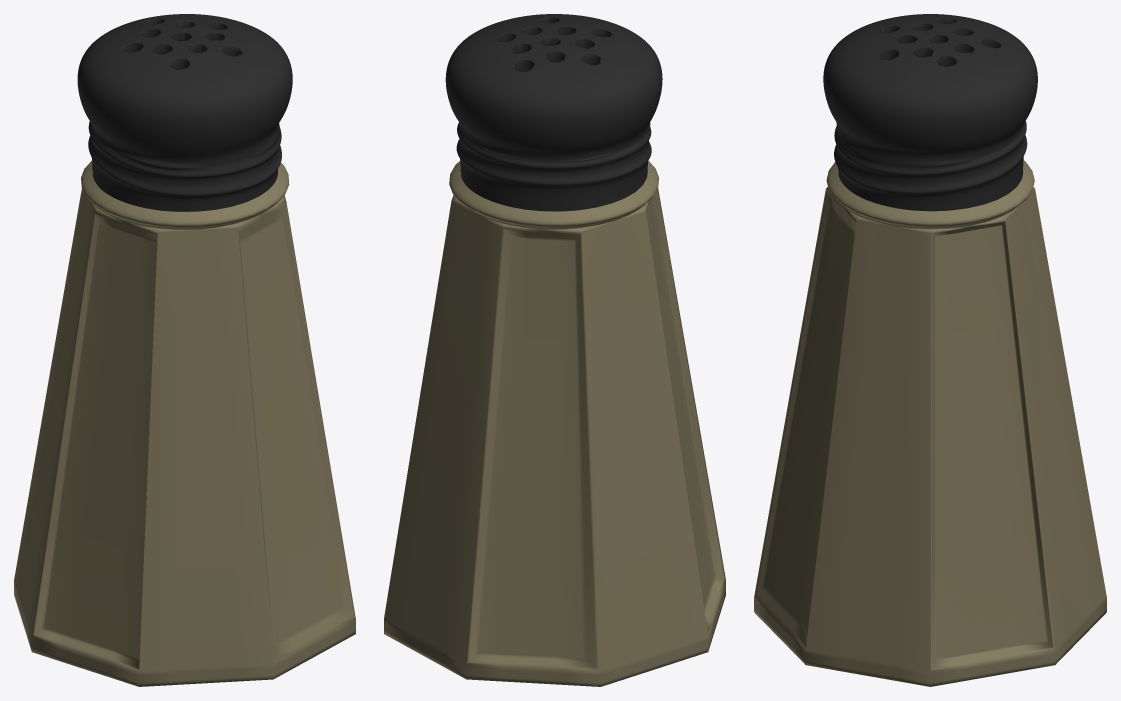
File: saltshaker.fbx
The picture shows the model from 3 angles, left to right: view 1: azimuth 30°, elevation 25°; view 2: azimuth 150°, elevation 25°; view 3: azimuth 270°, elevation 25°; orthographic projection.
Parts seen in each view (by area): view 1: glasscont, metaltop; view 2: glasscont, metaltop; view 3: glasscont, metaltop.
Boxes of the visible parts, <box> form: glasscont: <box>14,161,355,686</box>; metaltop: <box>77,14,292,211</box>; glasscont: <box>384,161,725,686</box>; metaltop: <box>445,14,662,211</box>; glasscont: <box>754,160,1106,686</box>; metaltop: <box>823,14,1037,211</box>.
Size of the model in its own units: 12.18 by 22.09 by 12.18.
